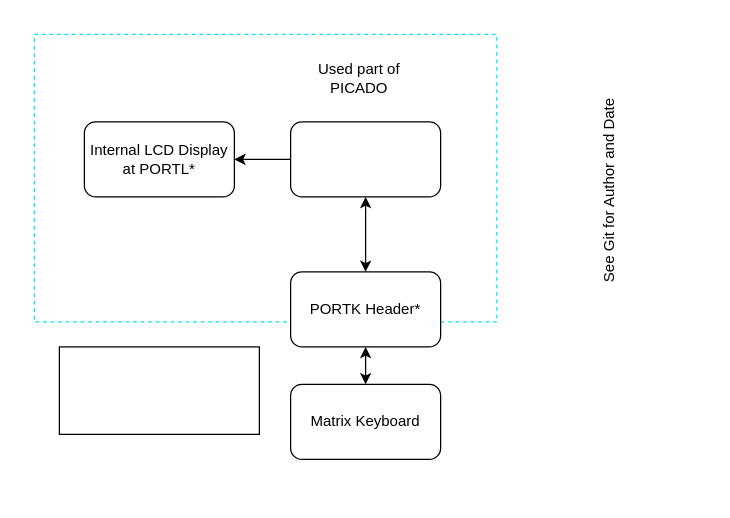
This 730x518 diagram has some shape labels left out. Here are the shapes that lost their labels. From the top down, the box of each, then its label:
(289, 121, 441, 197): ATmega 2560 16MHz
(58, 346, 259, 434): *See in the respective submodule readme for pinouts/definition
